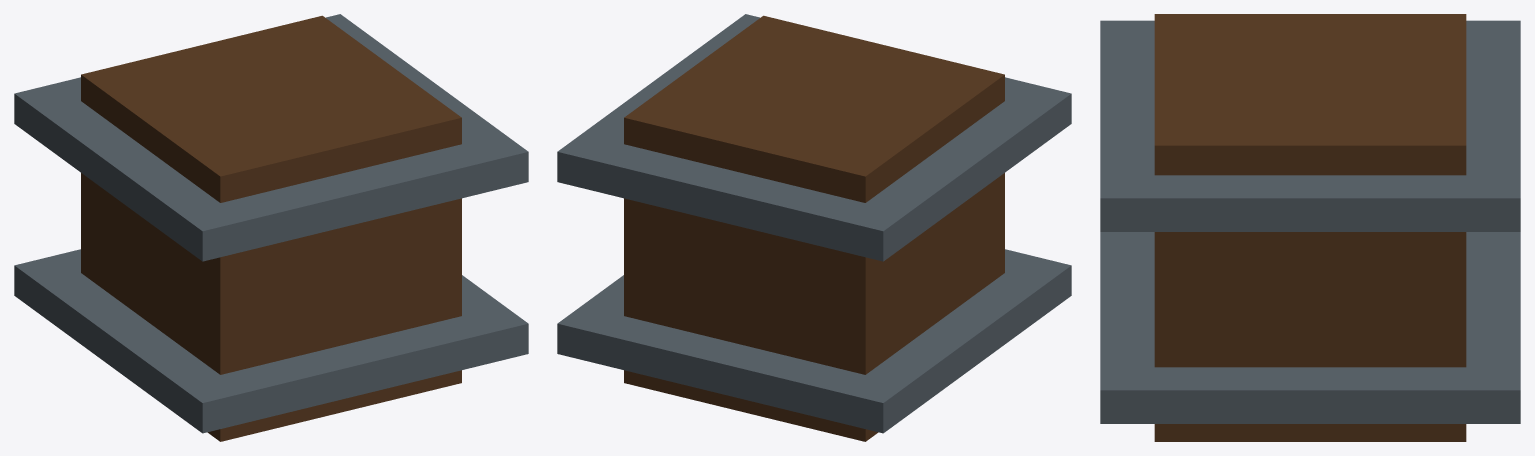
File: prop.cable_spool.glb
3 renders of one model, left to right at view 1: azimuth 30°, elevation 25°; view 2: azimuth 150°, elevation 25°; view 3: azimuth 270°, elevation 25°, orthographic. The views are drawn at different scales.
Visible parts, largest first — view 1: spool_core, right_rim, left_rim; view 2: spool_core, right_rim, left_rim; view 3: spool_core, right_rim, left_rim.
Part boxes in pixels (x1,y1,x2,y2): spool_core: (81, 15, 461, 441); right_rim: (14, 14, 528, 261); left_rim: (14, 249, 528, 433); spool_core: (624, 15, 1004, 441); right_rim: (557, 14, 1071, 261); left_rim: (557, 249, 1071, 433); spool_core: (1154, 14, 1466, 441); right_rim: (1100, 20, 1520, 231); left_rim: (1100, 232, 1520, 423).
Size of the model in its own units: 1.35 by 1.05 by 1.35.
